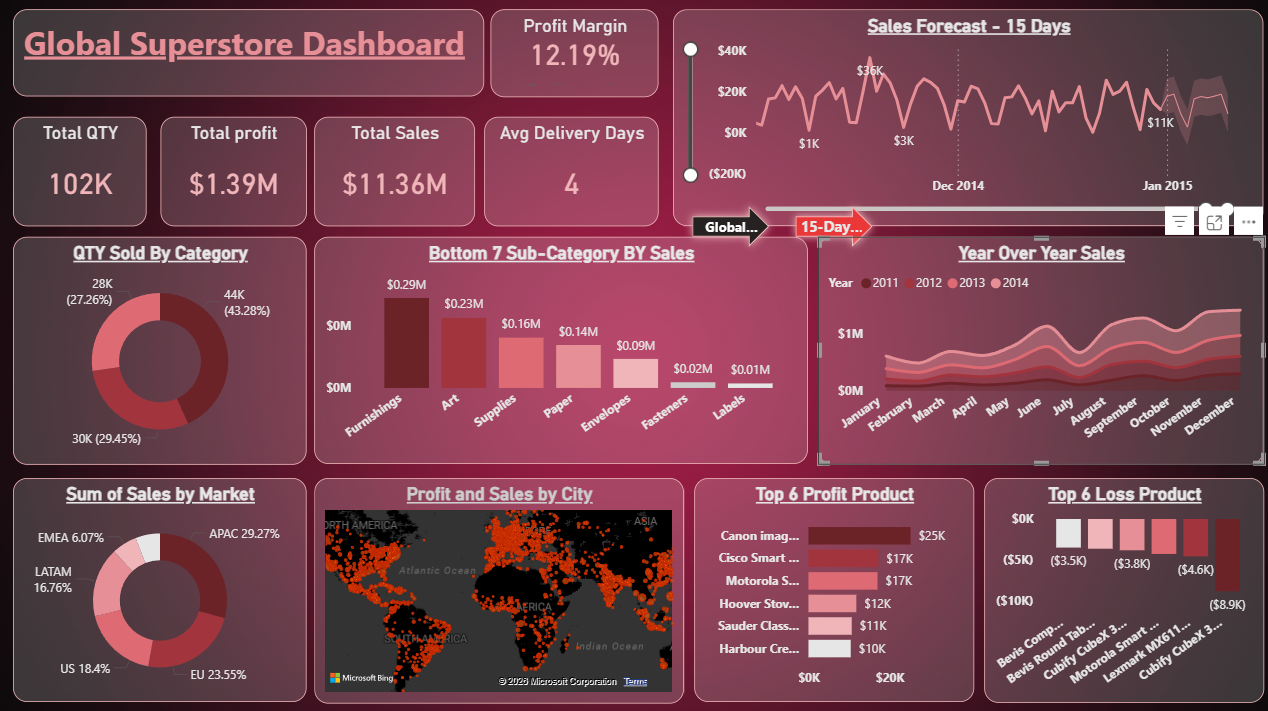

The page's visual inventory and layout, read from the dashboard file:
{"tool":"powerbi","page":{"name":"Global Superstore Dashboard","canvas":[1280,720],"ordinal":0},"visuals":[{"type":"clusteredBarChart","title":"Top 6 Profit Product","fields":{"Category":["Real data.Product Name"],"Y":["Sum(Real data.Profit)"]},"box":[695.7,480.3,279.9,223.7],"z":0},{"type":"clusteredColumnChart","title":"Top 6 Loss Product","fields":{"Category":["Real data.Product Name"],"Y":["Sum(Real data.Profit)"]},"box":[986.6,480.3,279.9,225],"z":1000},{"type":"map","title":"Profit and Sales by City","fields":{"Size":["Sum(Real data.Sales)"],"Category":["Real data.City"]},"box":[316.6,479.8,369.3,225.8],"z":2000},{"type":"textbox","box":[14.7,11,471.2,87.1],"z":3000},{"type":"stackedAreaChart","title":"Year Over Year Sales ","fields":{"Category":["Real data.Order Date.Variation.Date Hierarchy.Month"],"Y":["Sum(Real data.Sales)"],"Series":["Real data.Order Date.Variation.Date Hierarchy.Year"]},"box":[820.6,238.8,446,227.8],"z":4000},{"type":"clusteredColumnChart","title":"Bottom 7 Sub-Category BY Sales","fields":{"Category":["Real data.Sub-Category"],"Y":["Sum(Real data.Sales)"]},"box":[316.6,239.3,493.3,227],"z":5000},{"type":"donutChart","title":"QTY Sold By Category","fields":{"Category":["Real data.Category"],"Y":["Sum(Real data.Quantity)"]},"box":[15.1,238.8,293.7,227.8],"z":6000},{"type":"donutChart","fields":{"Y":["Sum(Real data.Sales)"],"Category":["Real data.Market"]},"box":[15.1,480.3,293.7,223.7],"z":7000},{"type":"card","title":"Total  profit","fields":{"Values":["Sum(Real data.Profit)"]},"box":[162,119,146,109.2],"z":8000},{"type":"card","title":"Total Sales","fields":{"Values":["Sum(Real data.Sales)"]},"box":[316.6,119,160.7,109.2],"z":9000},{"type":"card","title":"Total QTY","fields":{"Values":["Sum(Real data.Quantity)"]},"box":[14.7,119,133.7,109.2],"z":10000},{"type":"card","title":"Avg Delivery Days","fields":{"Values":["Avg(Real data.Avg Delivery)"]},"box":[485.9,119,174.2,109.2],"z":11000},{"type":"card","title":"Profit Margin","fields":{"Values":["Real data.Profit margin"]},"box":[492,11,168.1,88.3],"z":12000},{"type":"lineChart","title":"Sales Forecast - 15 Days","fields":{"Y":["Sum(Real data.Sales)"],"Category":["Real data.Order Date"]},"box":[675.5,10.9,590.7,216.7],"z":13000},{"type":"pageNavigator","box":[685.9,200,197.5,57.7],"z":14000}]}

Visuals, with their boxes in screenshot pixels (x1, y1, x2, y2), scaled from the page's 1280x720 canvas onto the 1268x711 screenshot:
"Top 6 Profit Product" clusteredBarChart: [689, 474, 966, 695]
"Top 6 Loss Product" clusteredColumnChart: [977, 474, 1255, 696]
"Profit and Sales by City" map: [314, 474, 679, 697]
textbox: [15, 11, 481, 97]
"Year Over Year Sales " stackedAreaChart: [813, 236, 1255, 461]
"Bottom 7 Sub-Category BY Sales" clusteredColumnChart: [314, 236, 802, 460]
"QTY Sold By Category" donutChart: [15, 236, 306, 461]
donutChart - Sum(Real data.Sales) x Real data.Market: [15, 474, 306, 695]
"Total  profit" card: [160, 118, 305, 225]
"Total Sales" card: [314, 118, 473, 225]
"Total QTY" card: [15, 118, 147, 225]
"Avg Delivery Days" card: [481, 118, 654, 225]
"Profit Margin" card: [487, 11, 654, 98]
"Sales Forecast - 15 Days" lineChart: [669, 11, 1254, 225]
pageNavigator: [679, 198, 875, 254]
